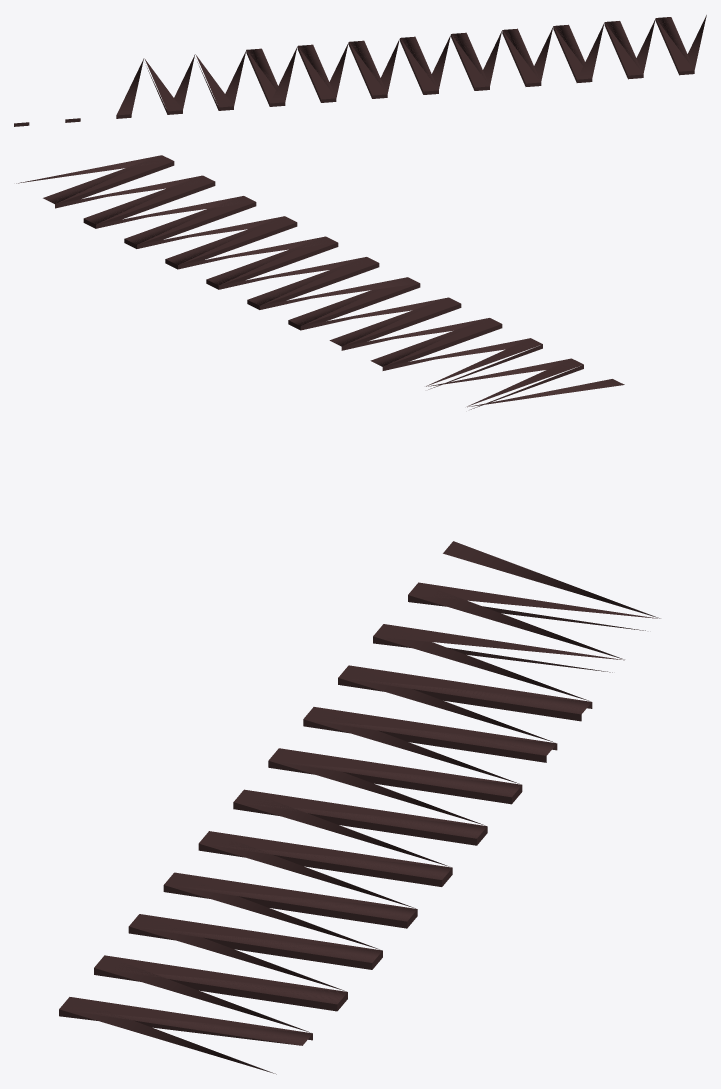
3 views of the same model, one above another, from view 1: azimuth 30°, elevation 25°; view 2: azimuth 150°, elevation 25°; view 3: azimuth 270°, elevation 25° (orthographic). The views are drawn at different scales.
Size of the model in its own units: 12.05 by 0.064 by 4.98.
